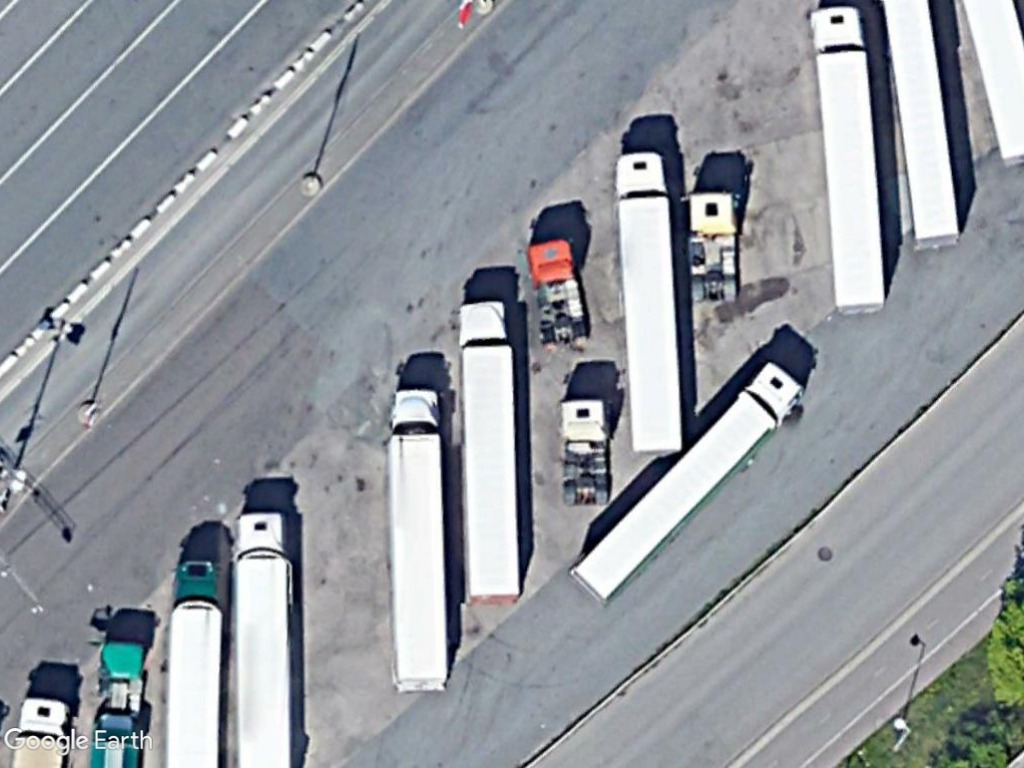longvehicle: (560, 361, 816, 608), (602, 143, 705, 469), (788, 0, 892, 320), (380, 382, 458, 703), (456, 298, 534, 617), (229, 501, 304, 768), (164, 555, 235, 768)
